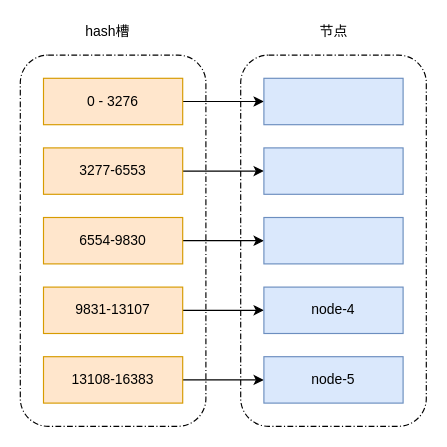
Image size: 447x447. Some labels were removed from this diagram. The box of each missing label's shape, as (x1, y1, x2, y2) in pixels:
node-1: (263, 77, 403, 125)
node-2: (263, 147, 403, 194)
node-3: (263, 216, 403, 264)
